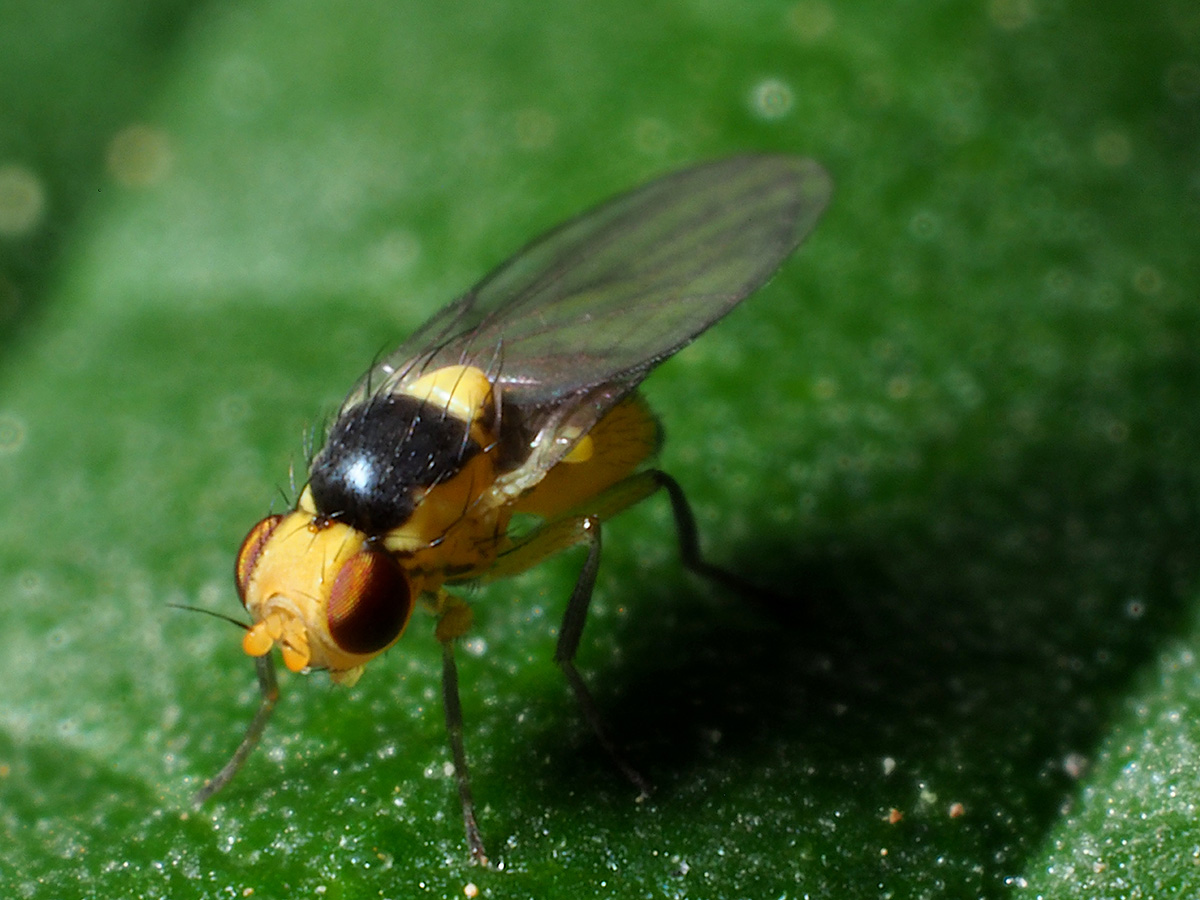Trifoli: (193, 241, 805, 807)
